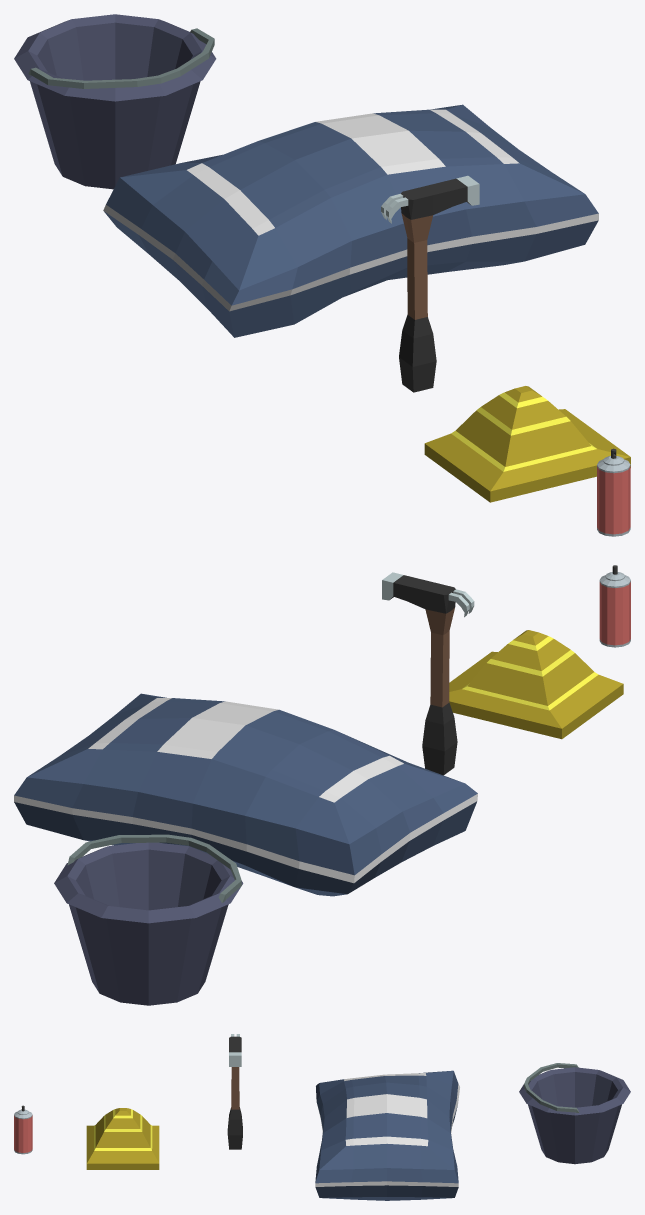
Rendered from stuff.fbx.
3 renders of one model, top to bottom at view 1: azimuth 30°, elevation 25°; view 2: azimuth 150°, elevation 25°; view 3: azimuth 270°, elevation 25°, orthographic. The views are drawn at different scales.
Parts seen in each view (by area): view 1: cementsackTLU, bucketTLU, hardhatTLU, hammerTLU, spraycanTLU; view 2: cementsackTLU, bucketTLU, hardhatTLU, hammerTLU, spraycanTLU; view 3: cementsackTLU, bucketTLU, hardhatTLU, hammerTLU, spraycanTLU.
Boxes of the visible parts, x1,y1,x2,y2 form: cementsackTLU: [103, 104, 598, 337]; bucketTLU: [14, 14, 216, 189]; hardhatTLU: [424, 386, 630, 502]; hammerTLU: [381, 175, 479, 392]; spraycanTLU: [597, 448, 630, 536]; cementsackTLU: [14, 693, 477, 896]; bucketTLU: [54, 834, 243, 1005]; hardhatTLU: [449, 630, 623, 739]; hammerTLU: [382, 572, 474, 775]; spraycanTLU: [599, 565, 630, 647]; cementsackTLU: [315, 1070, 459, 1200]; bucketTLU: [519, 1063, 630, 1164]; hardhatTLU: [86, 1108, 159, 1169]; hammerTLU: [227, 1034, 242, 1149]; spraycanTLU: [14, 1105, 32, 1154].
Bounding box in the file's own units: 1.04 × 0.5303 × 2.72.
